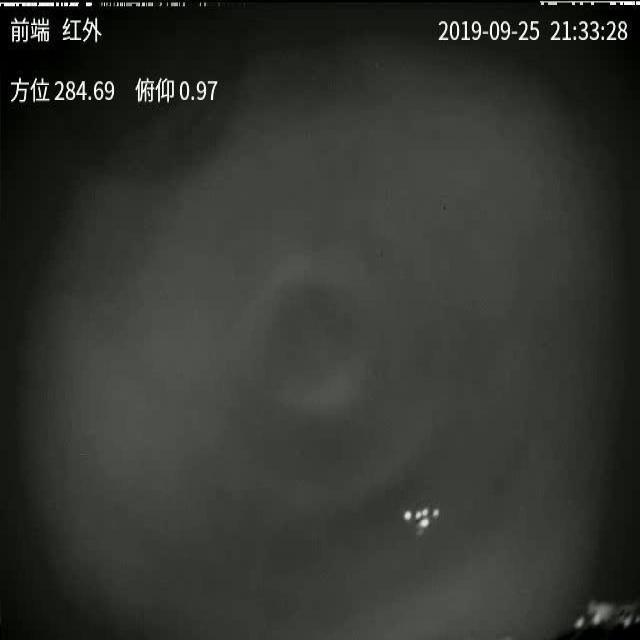drone: (401, 503, 446, 538)
